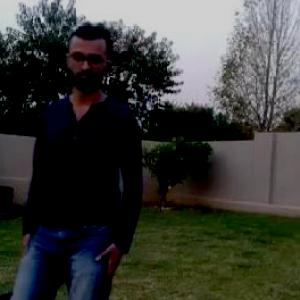follow: (30, 19, 138, 299)
